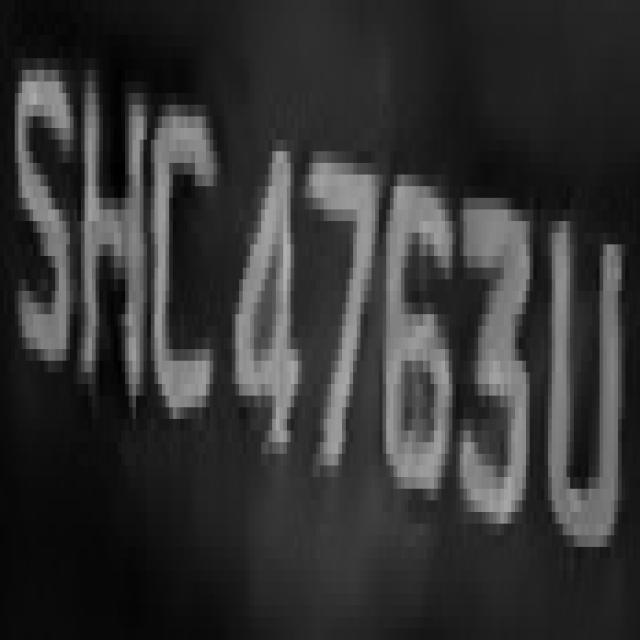3: (460, 151, 544, 547)
4: (214, 81, 306, 489)
6: (375, 128, 464, 535)
7: (298, 116, 382, 512)
C: (147, 93, 221, 454)
H: (77, 58, 151, 419)
S: (4, 24, 81, 408)
U: (544, 186, 622, 582)
